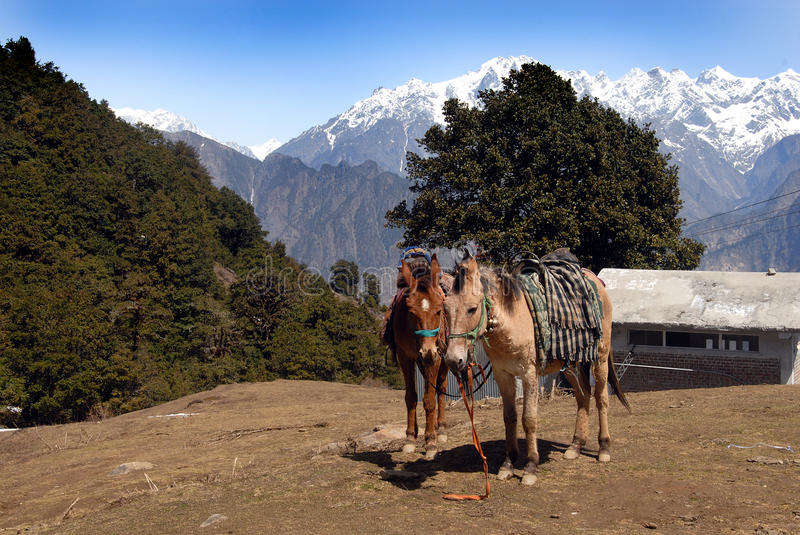equine: (430, 251, 633, 488), (380, 241, 457, 444)
